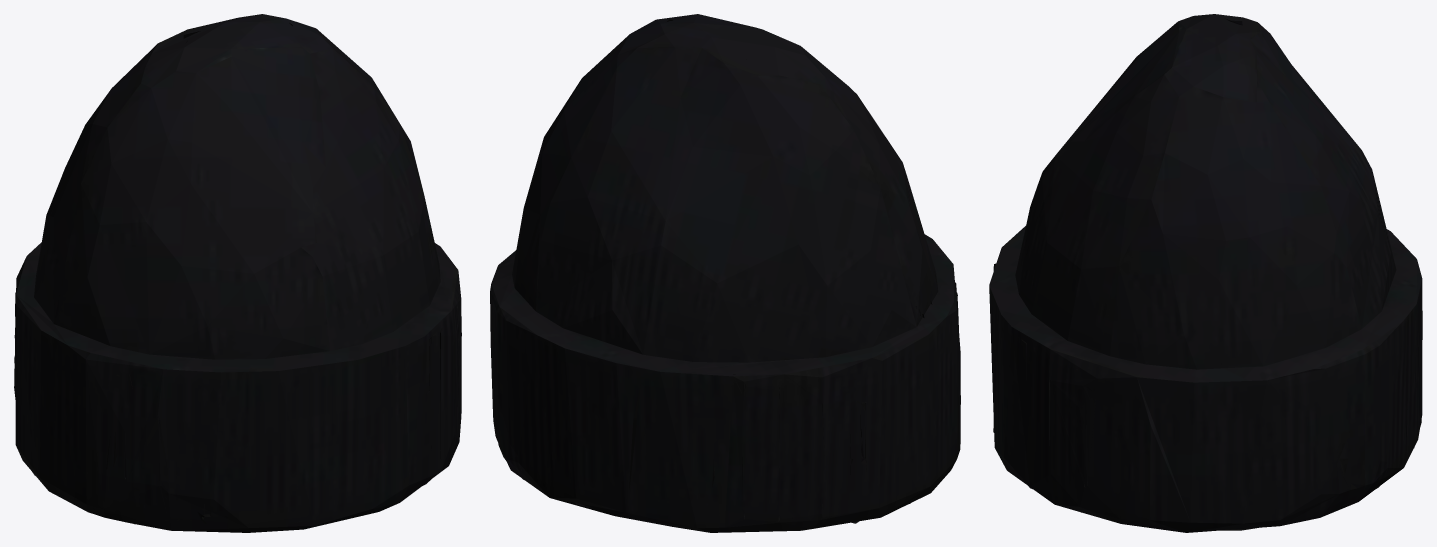
Rendered from beanie.glb.
The picture shows the model from 3 angles, left to right: view 1: azimuth 30°, elevation 25°; view 2: azimuth 150°, elevation 25°; view 3: azimuth 270°, elevation 25°; orthographic projection. The views are drawn at different scales.
Visible parts, largest first — view 1: geometry_0; view 2: geometry_0; view 3: geometry_0.
Part boxes in pixels (left/top/right/bottom): geometry_0: left=14, top=14, right=461, bottom=532; geometry_0: left=490, top=14, right=960, bottom=532; geometry_0: left=989, top=14, right=1422, bottom=532.
Bounding box in the file's own units: 0.9845 × 0.995 × 0.9466.
1 material, 1 textured.
